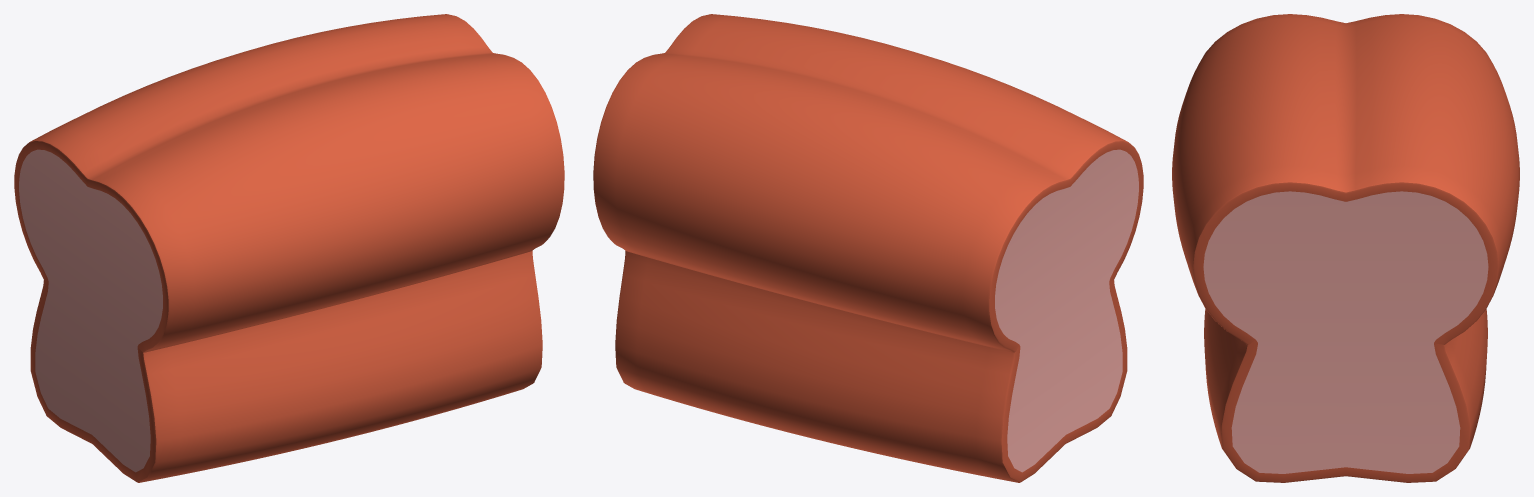
File: Miche_Of_Bread.FBX
3 renders of one model, left to right at view 1: azimuth 30°, elevation 25°; view 2: azimuth 150°, elevation 25°; view 3: azimuth 270°, elevation 25°, orthographic.
Parts seen in each view (by area): view 1: Cylinder057; view 2: Cylinder057; view 3: Cylinder057.
Boxes of the visible parts, x1,y1,x2,y2 form: Cylinder057: (14, 14, 564, 482); Cylinder057: (593, 14, 1143, 482); Cylinder057: (1172, 14, 1519, 482).
Size of the model in its own units: 1413 by 1072 by 1055.
